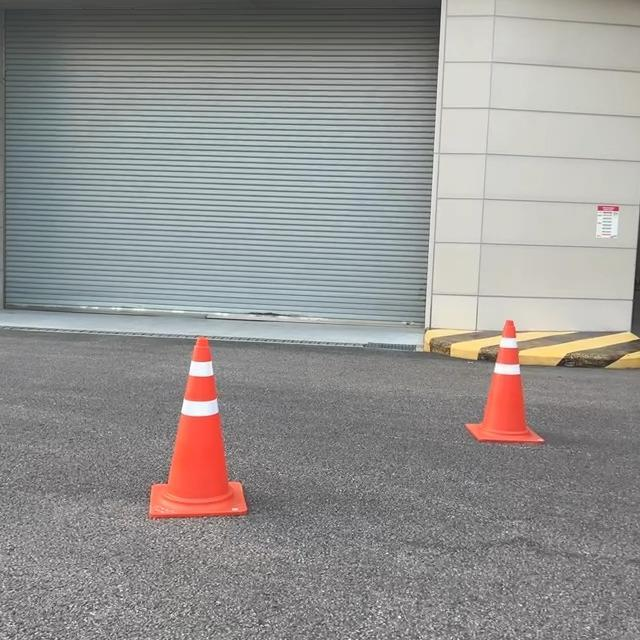fallen_object: (115, 316, 268, 541), (436, 279, 525, 456)
